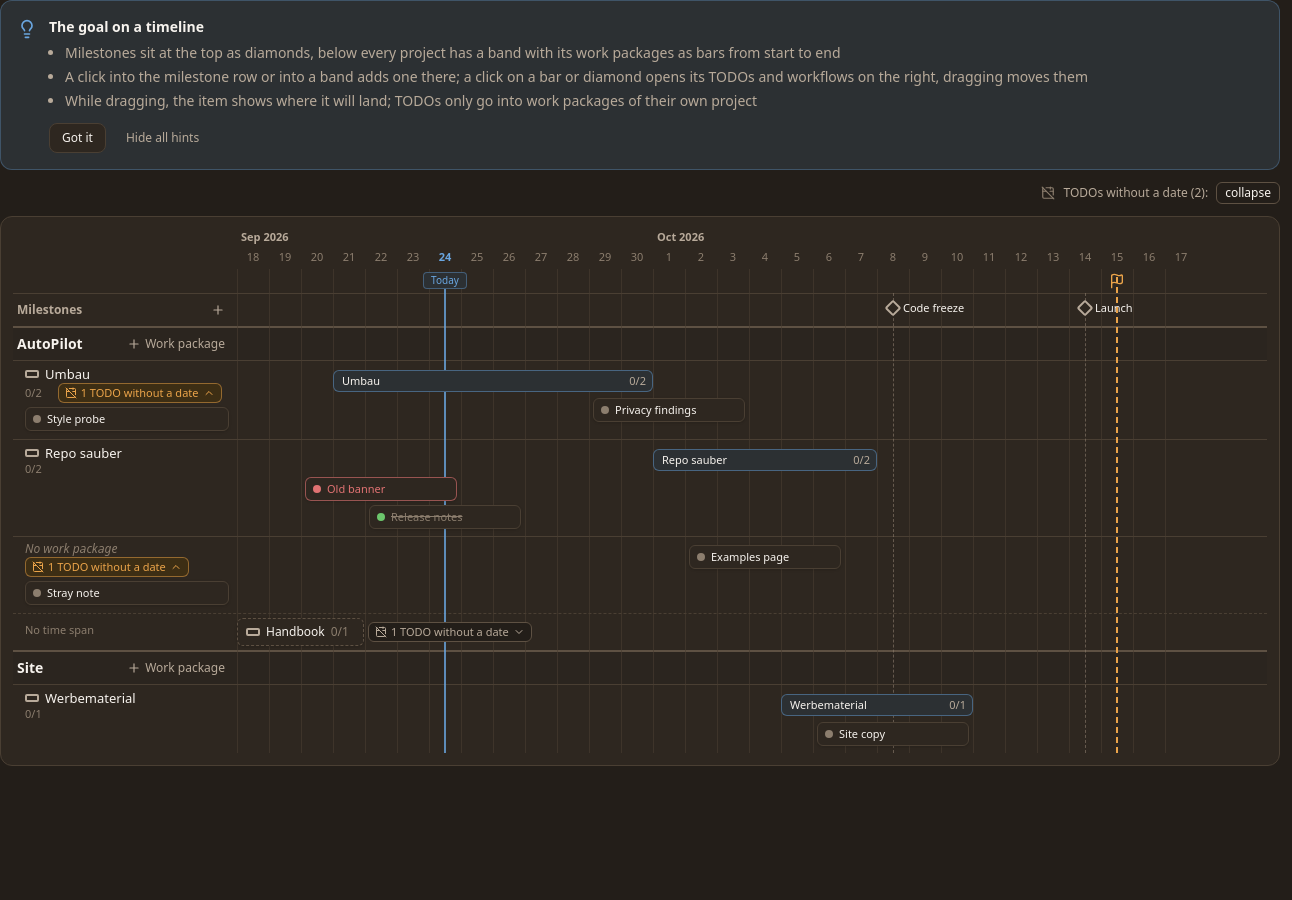
it: GoalTimeline (c60bf914): milestones, bands and bars › puts due TODOs under their bar and shows the few undated ones at the label, foldable
Expected: the button with aria-label "Privacy findings – Due" is shown, [593,398,745,422]
Expected: the button with aria-label "Style probe – no due date" is shown, [25,407,229,431]
Click the 1st button "1 TODO without a date": (140, 393) [58,383,222,403]
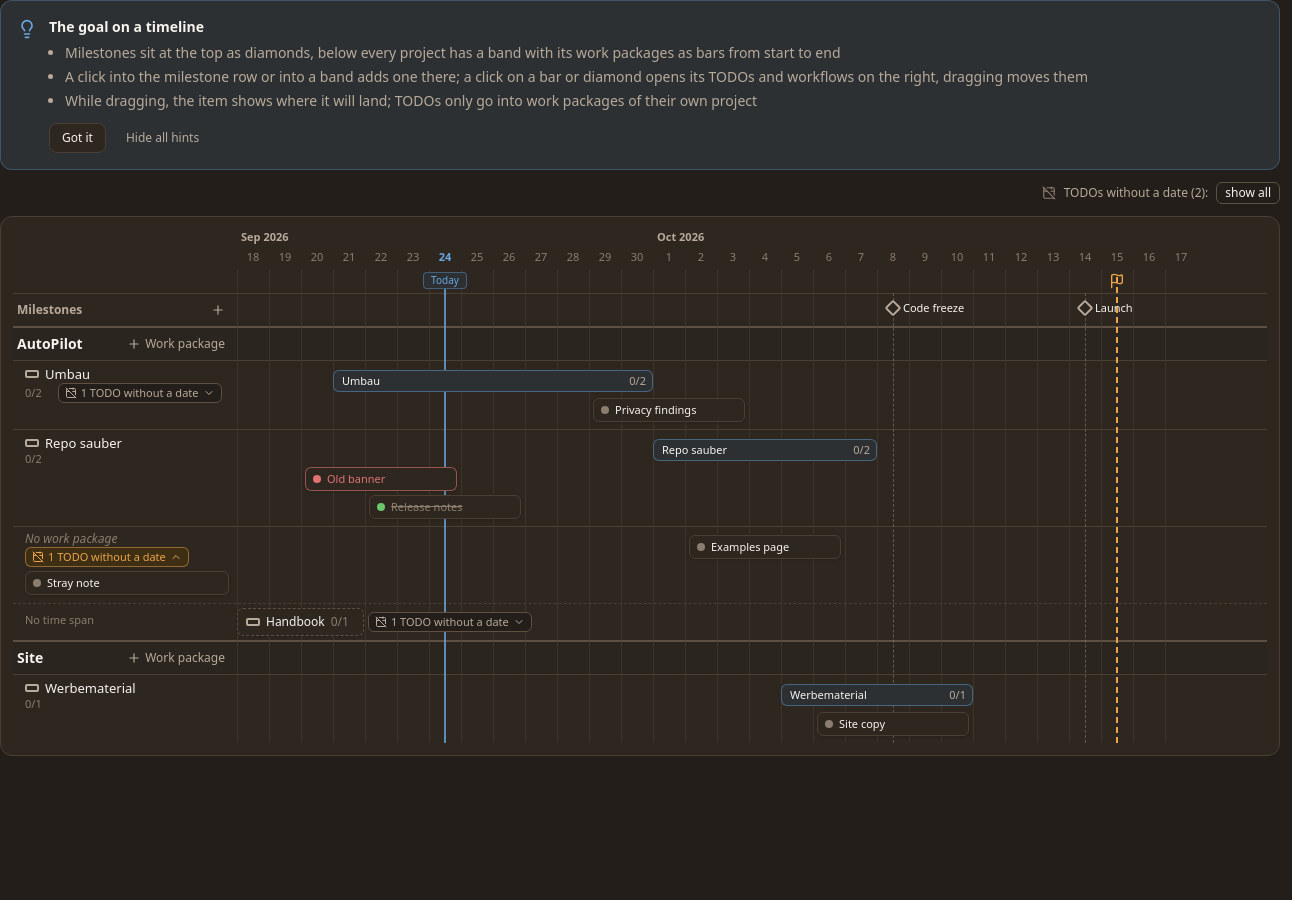
Expected: the 1st button "1 TODO without a date" is collapsed, [58,383,222,403]
Expected: the button "Style probe" is gone
Click the button "1 TODO without a date" in the row of "No time span": (450, 622) [368,612,532,632]
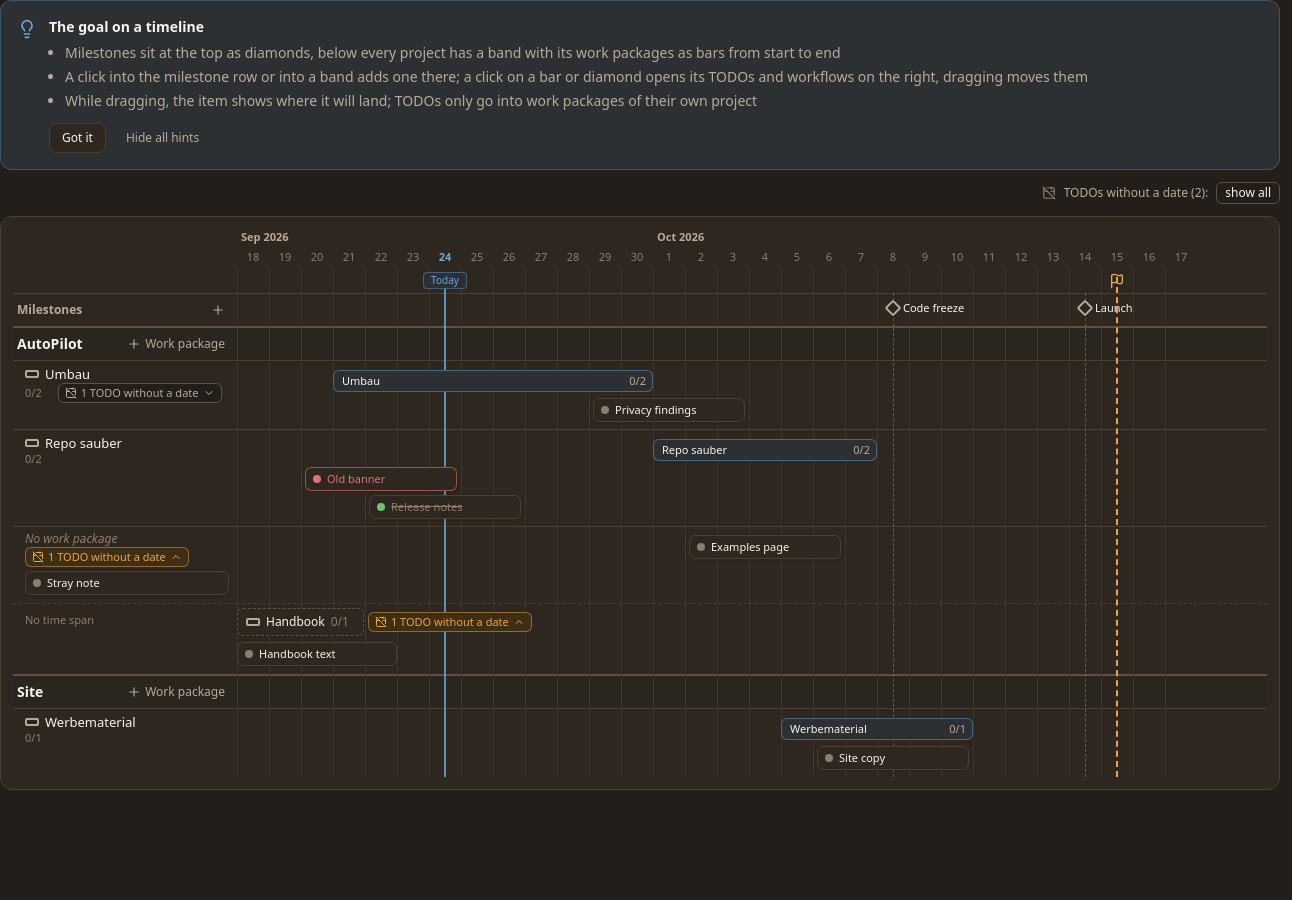
Expected: the button with aria-label "Handbook text – no due date" is shown, [237,642,397,666]
